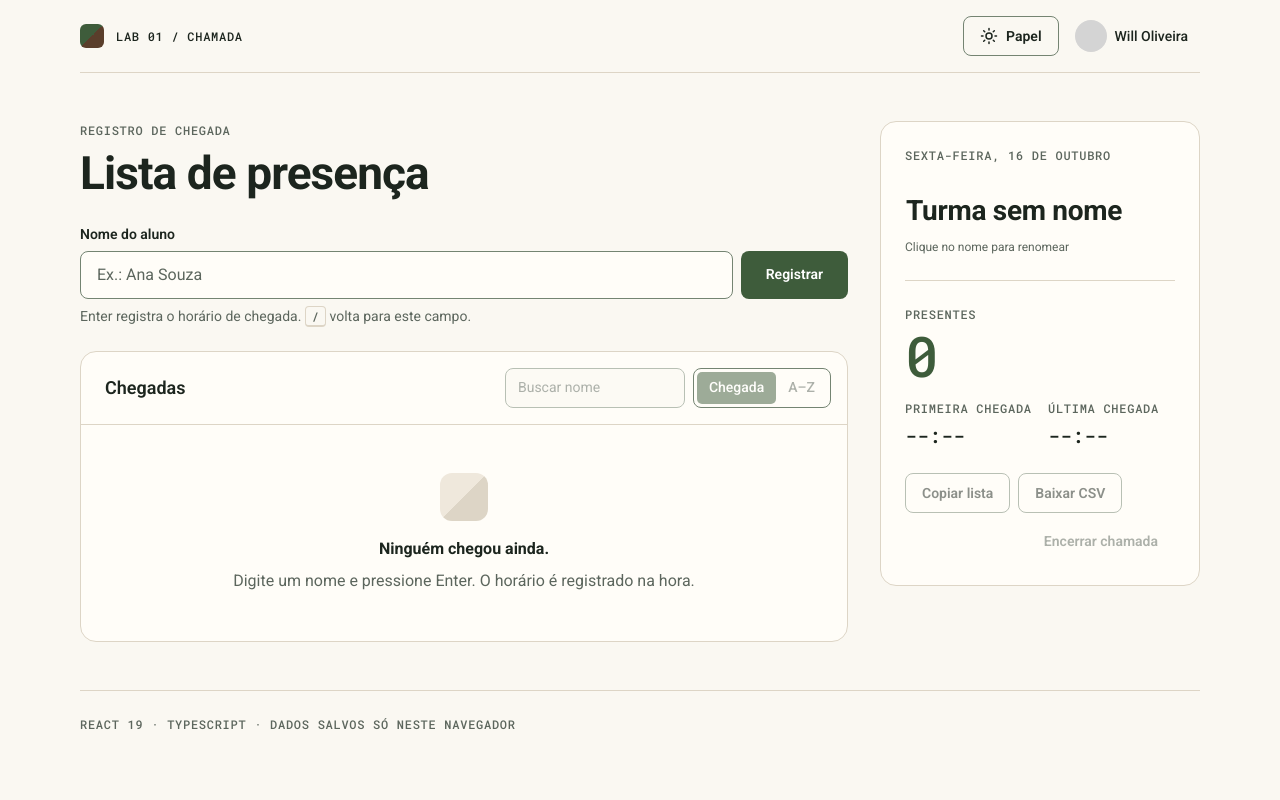
Test: Lista de presença › registra com Enter, normaliza espaços, limpa o campo e atualiza o painel
This screenshot has width=1280, height=800.
Type "  Ana   Souza  " into the field labelled "Nome do aluno".
click(406, 275); type("  Ana   Souza  ")  # box 80,251 -> 733,299
Then press Enter
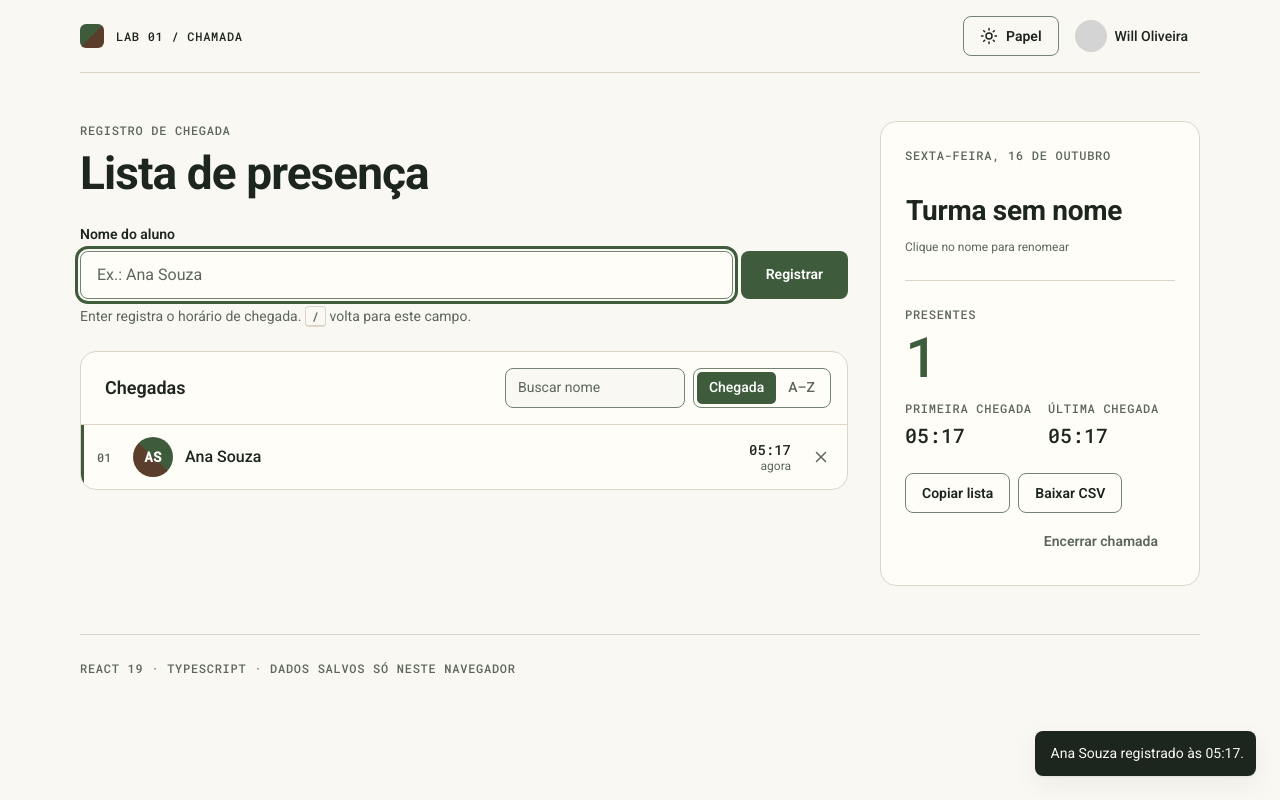
Now the text "Ana Souza" is shown, box 185,447 -> 261,466
Now the text "1" is shown, box 905,318 -> 939,392
Now the message shows "Ana Souza registrado", box 1051,745 -> 1244,761
